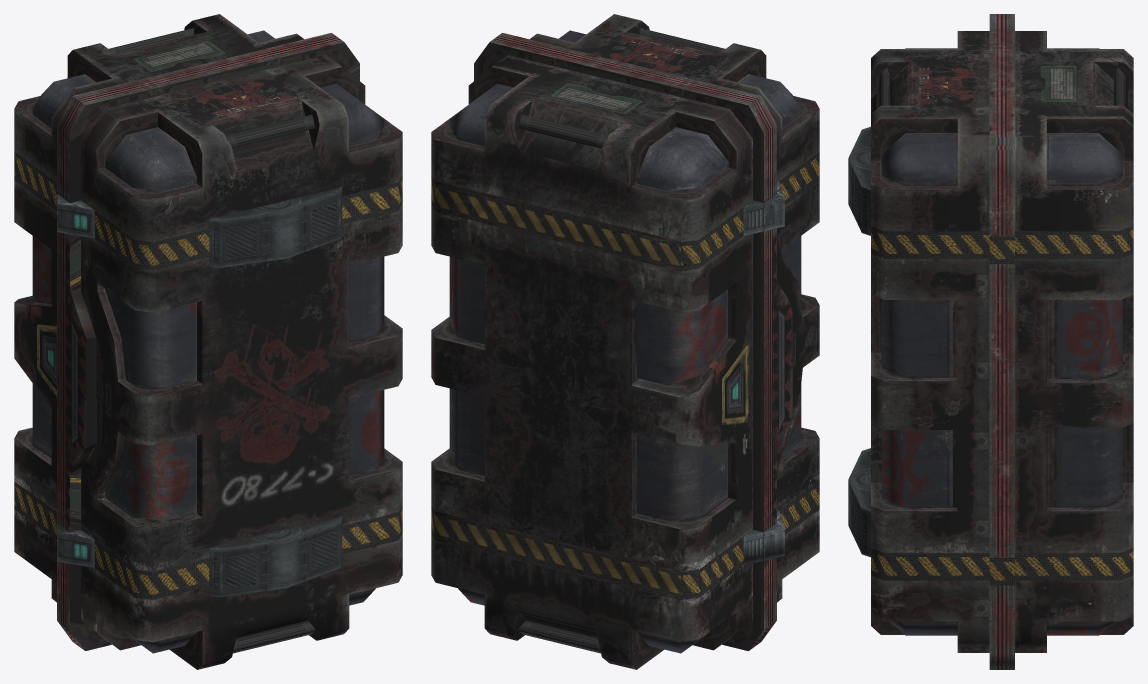
File: t6_wpn_supply_drop_trap_LOD1.obj
The picture shows the model from 3 angles, left to right: view 1: azimuth 30°, elevation 25°; view 2: azimuth 150°, elevation 25°; view 3: azimuth 270°, elevation 25°; orthographic projection. The views are drawn at different scales.
Parts seen in each view (by area): view 1: mtl_t6_wpn_supply_drop_trap; view 2: mtl_t6_wpn_supply_drop_trap; view 3: mtl_t6_wpn_supply_drop_trap.
Part boxes in pixels (bbox=[...]): mtl_t6_wpn_supply_drop_trap: bbox=[14, 14, 402, 669]; mtl_t6_wpn_supply_drop_trap: bbox=[431, 14, 819, 669]; mtl_t6_wpn_supply_drop_trap: bbox=[848, 14, 1133, 669].
Bounding box in the file's own units: 107 × 187 × 90.68.
